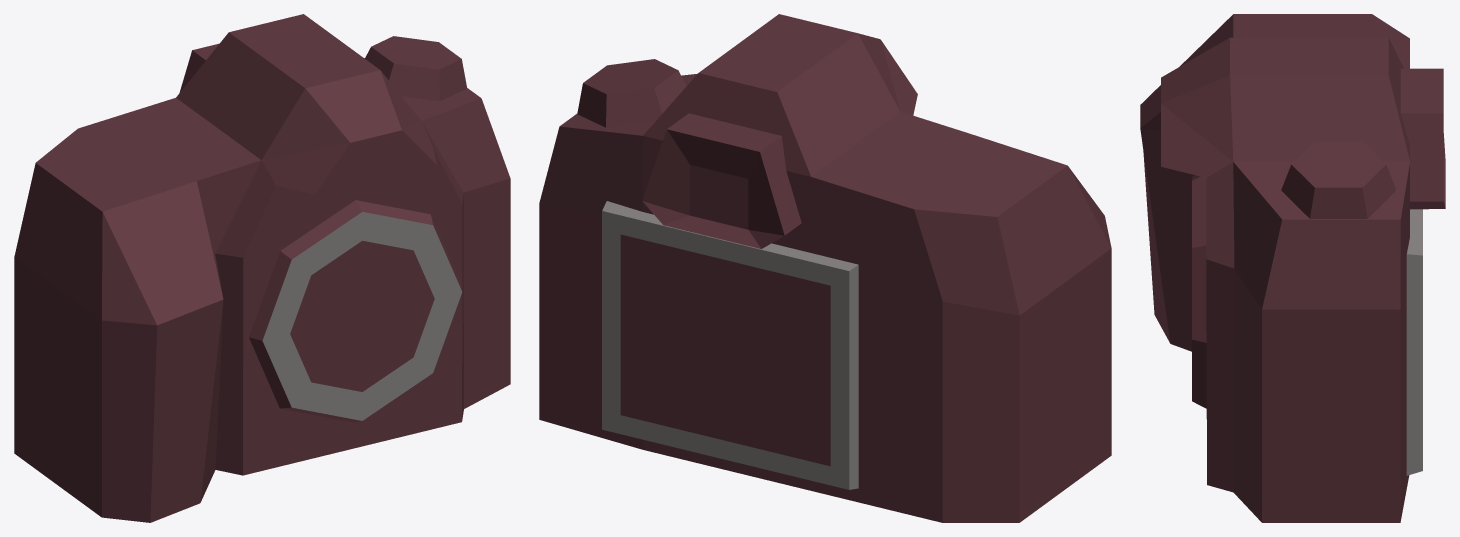
The model's file is camera-dslr.fbx.
The picture shows the model from 3 angles, left to right: view 1: azimuth 30°, elevation 25°; view 2: azimuth 150°, elevation 25°; view 3: azimuth 270°, elevation 25°; orthographic projection. The views are drawn at different scales.
Parts seen in each view (by area): view 1: camera-dslr; view 2: camera-dslr; view 3: camera-dslr.
Boxes of the visible parts, <box> form: camera-dslr: <box>14,14,510,522</box>; camera-dslr: <box>539,14,1111,522</box>; camera-dslr: <box>1140,14,1445,522</box>.
Bounding box in the file's own units: 0.1601 × 0.1247 × 0.0923.
